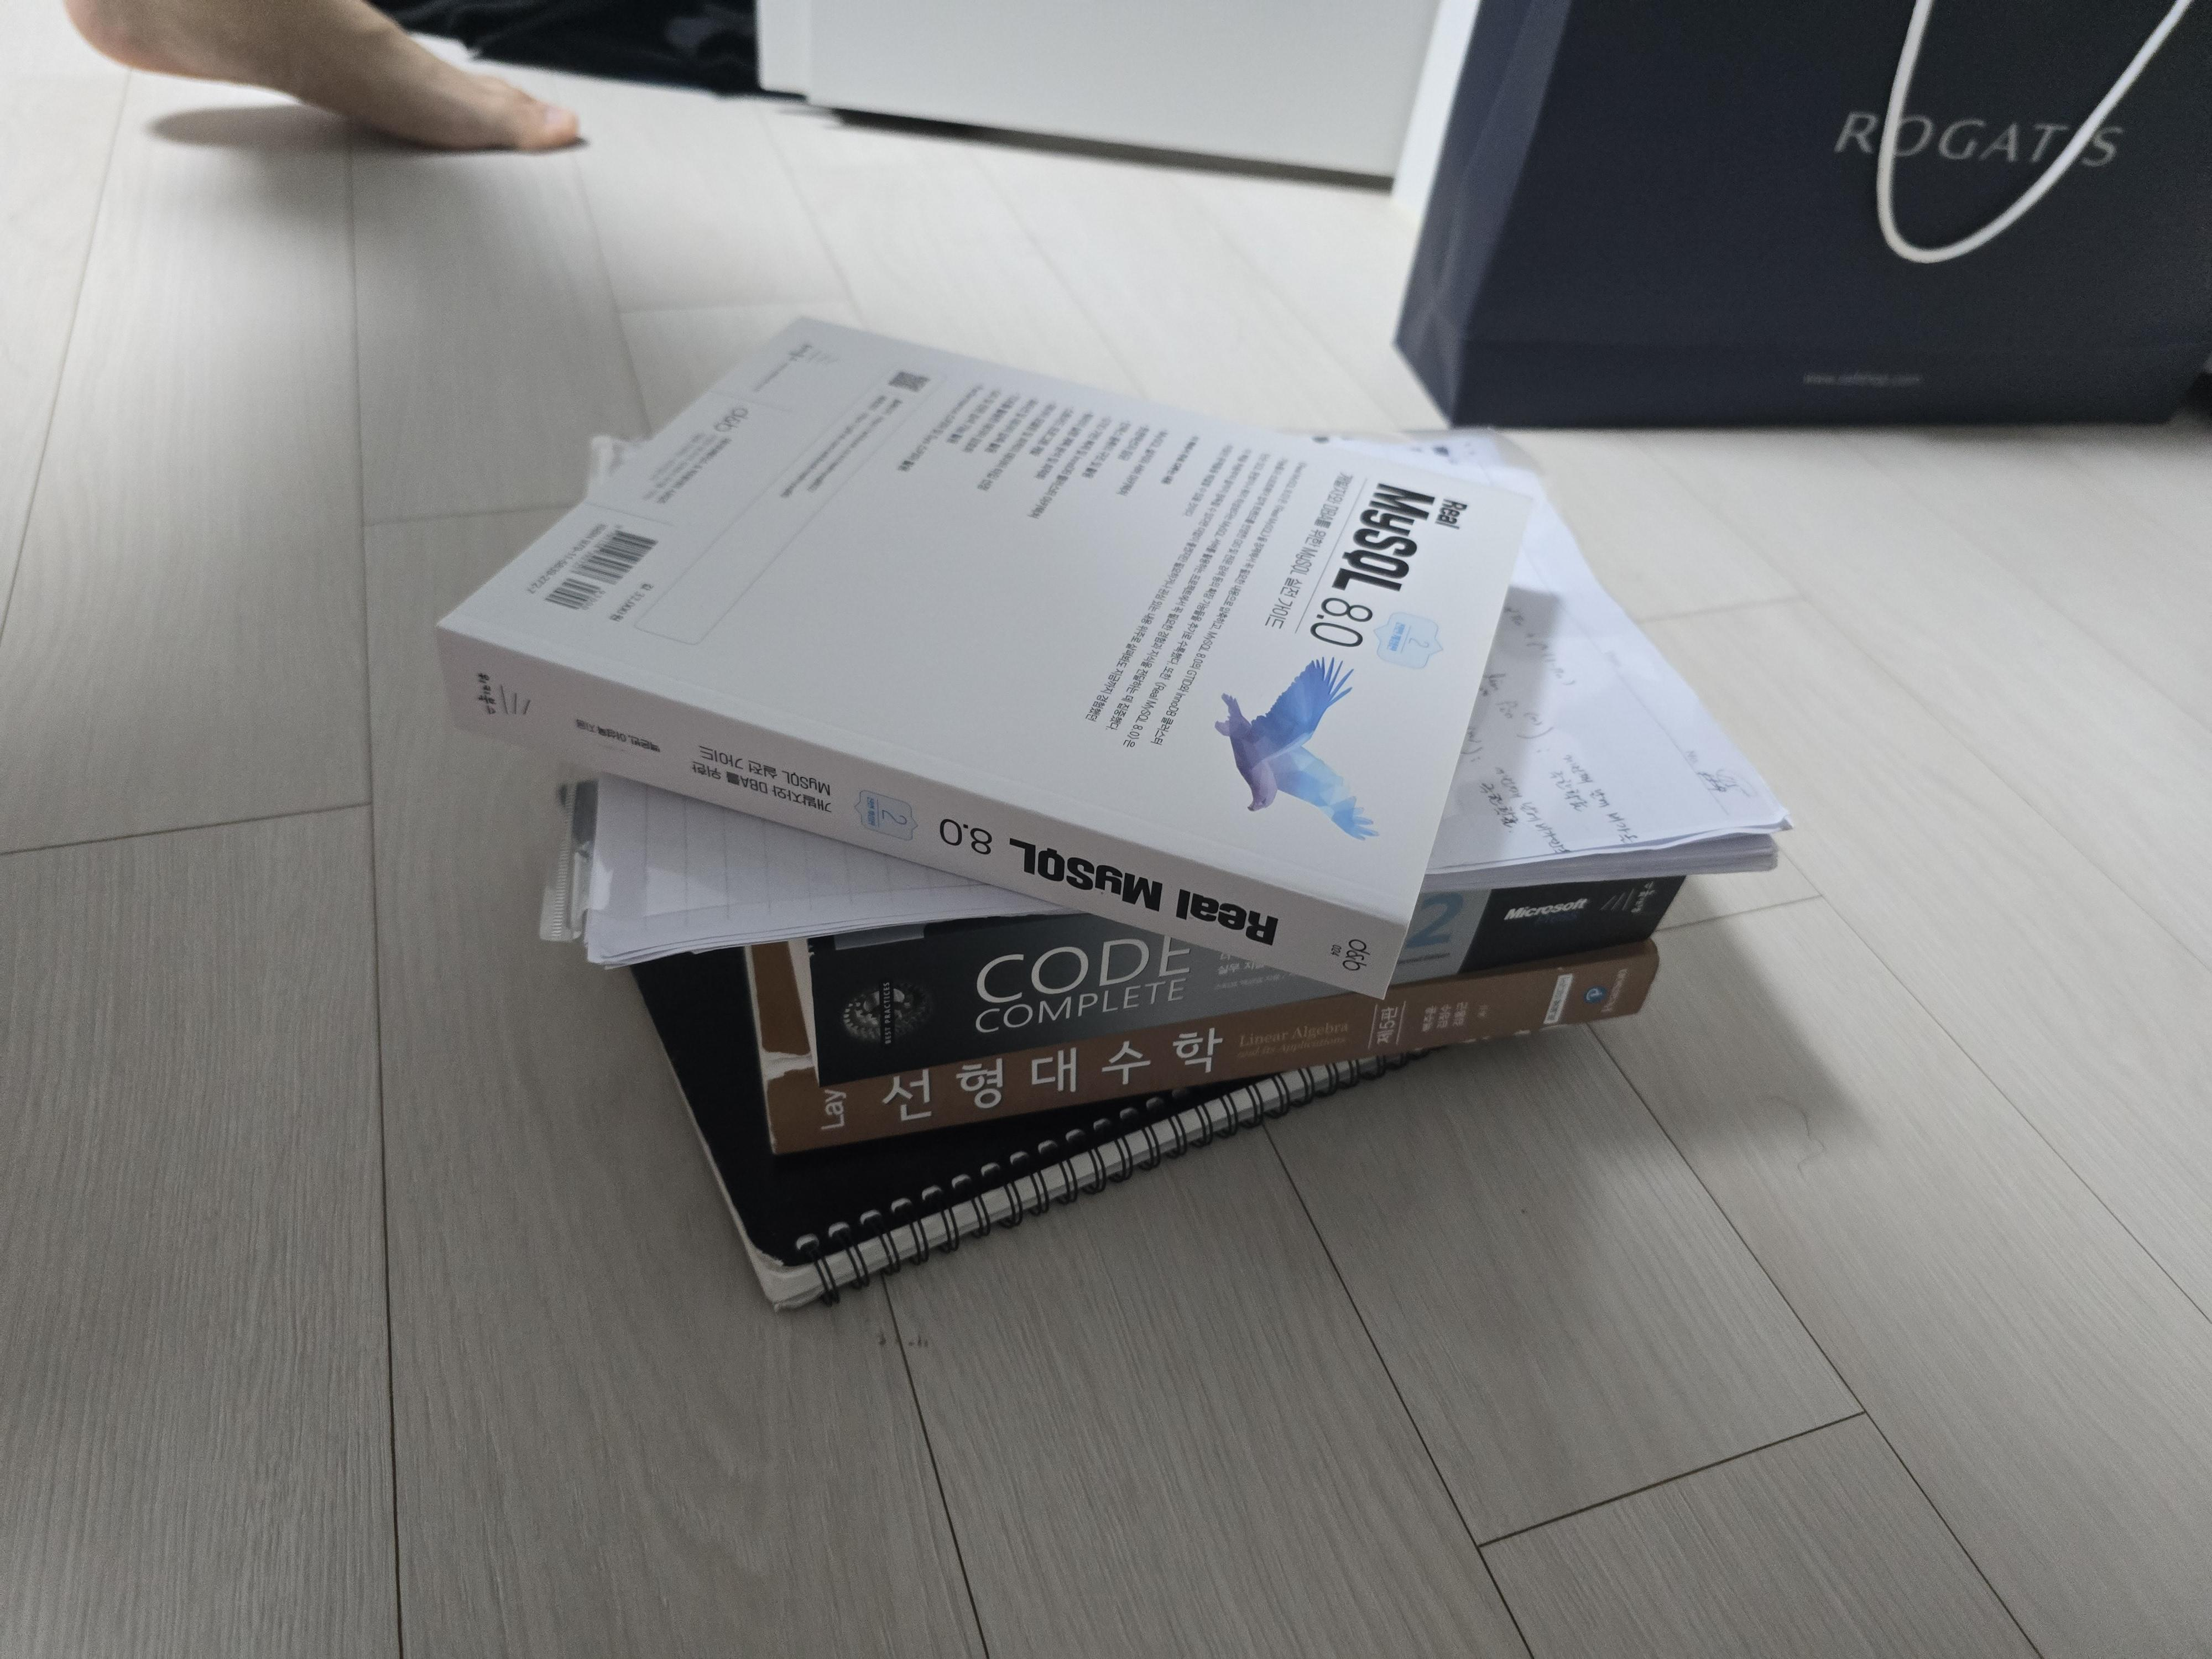book: (597, 401, 1784, 1366), (401, 324, 1543, 1007)
